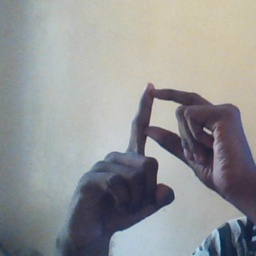D: (106, 79, 227, 193)
